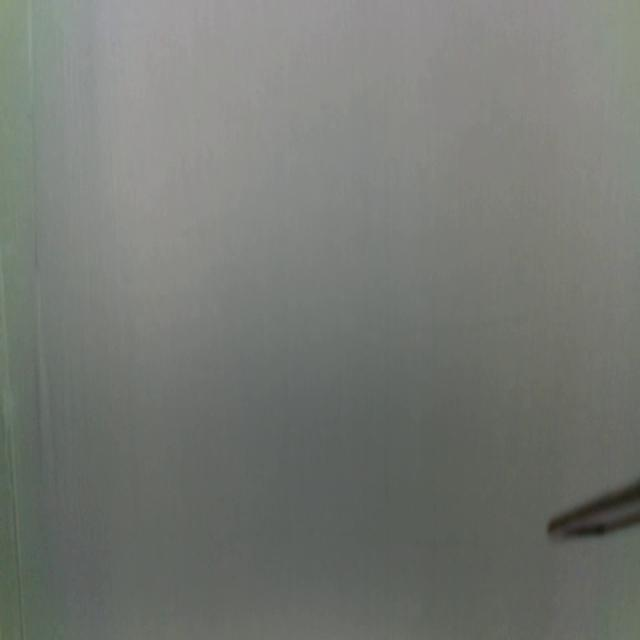crease: (0, 263, 24, 640), (28, 0, 47, 465)
